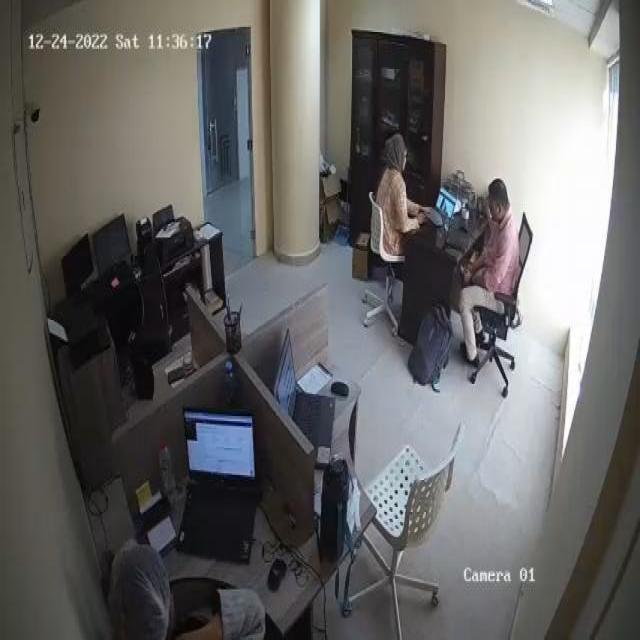bare_hand: (462, 258, 479, 291), (419, 202, 435, 219), (415, 212, 430, 229)
